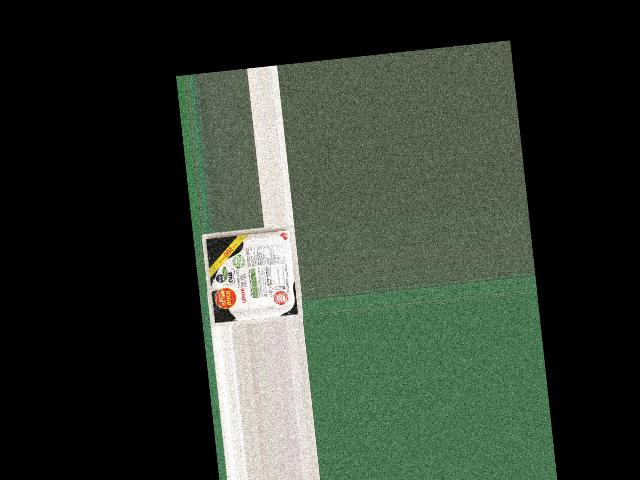cheese: (207, 225, 295, 324)
